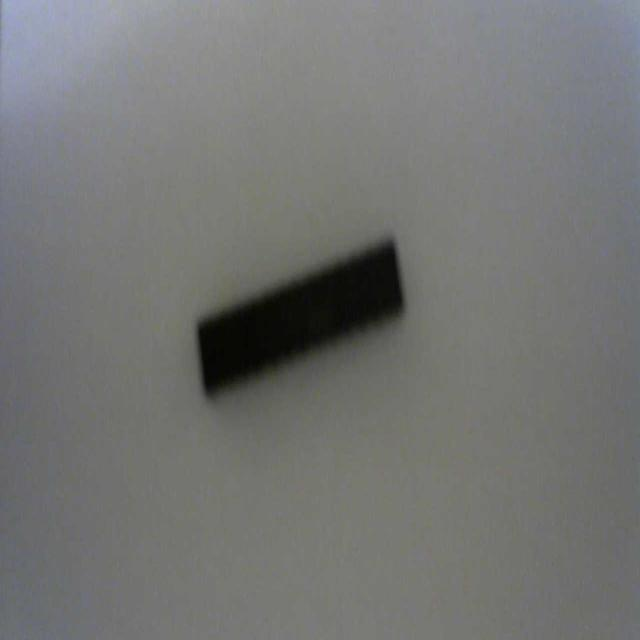atmega: (194, 229, 408, 402)
